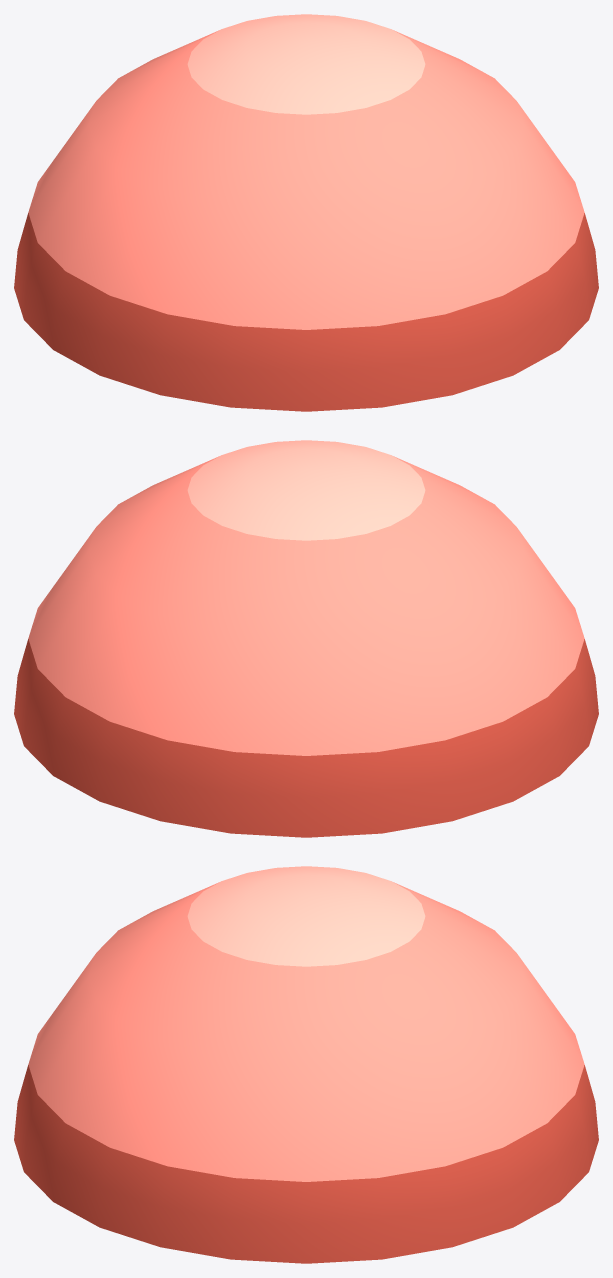
The model's file is shot_gum_pink.glb.
3 views of the same model, one above another, from view 1: azimuth 30°, elevation 25°; view 2: azimuth 150°, elevation 25°; view 3: azimuth 270°, elevation 25° (orthographic).
Visible parts, largest first — view 1: gum_ball; view 2: gum_ball; view 3: gum_ball.
Part boxes in pixels (<box>): gum_ball: <box>14,14,598,411</box>; gum_ball: <box>14,440,598,837</box>; gum_ball: <box>14,866,598,1263</box>.
Bounding box in the file's own units: 10.5 × 4.85 × 10.5.
